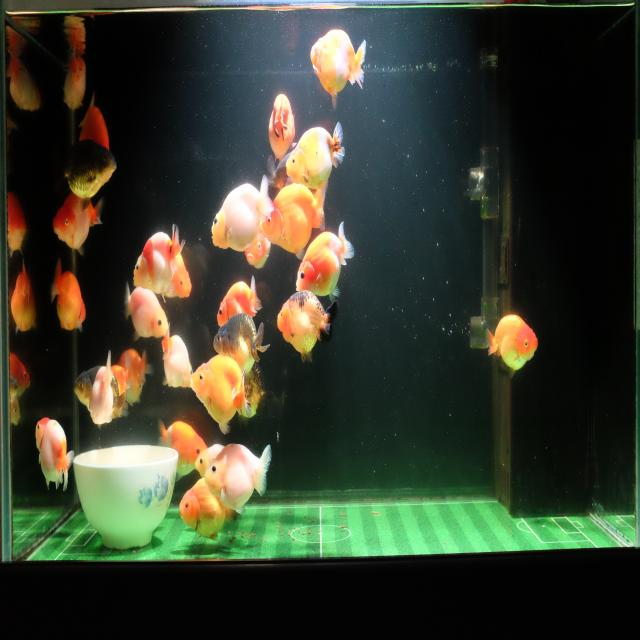Goldfish: (261, 175, 331, 262), (204, 441, 274, 518), (294, 219, 356, 304), (210, 173, 274, 253), (190, 354, 250, 435), (55, 136, 118, 213), (276, 288, 338, 366), (309, 26, 366, 110), (285, 118, 345, 194), (132, 221, 186, 298), (178, 480, 240, 544), (485, 310, 539, 382), (212, 316, 270, 380), (156, 416, 208, 487), (72, 362, 128, 424), (51, 194, 104, 253), (35, 416, 75, 492), (50, 255, 87, 337), (123, 279, 169, 343), (217, 275, 264, 331), (6, 44, 41, 117), (88, 347, 115, 434), (266, 90, 296, 166), (116, 348, 154, 408), (161, 321, 193, 392), (10, 259, 38, 334), (241, 360, 272, 420), (78, 93, 110, 151), (62, 51, 87, 114), (6, 187, 28, 256), (8, 350, 32, 402), (243, 232, 272, 272), (163, 257, 192, 297), (195, 444, 225, 478)
